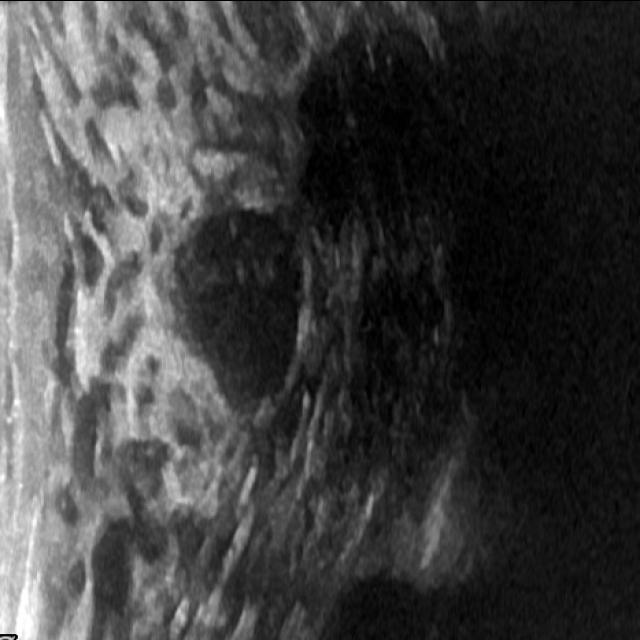Benign: (170, 208, 304, 382)
